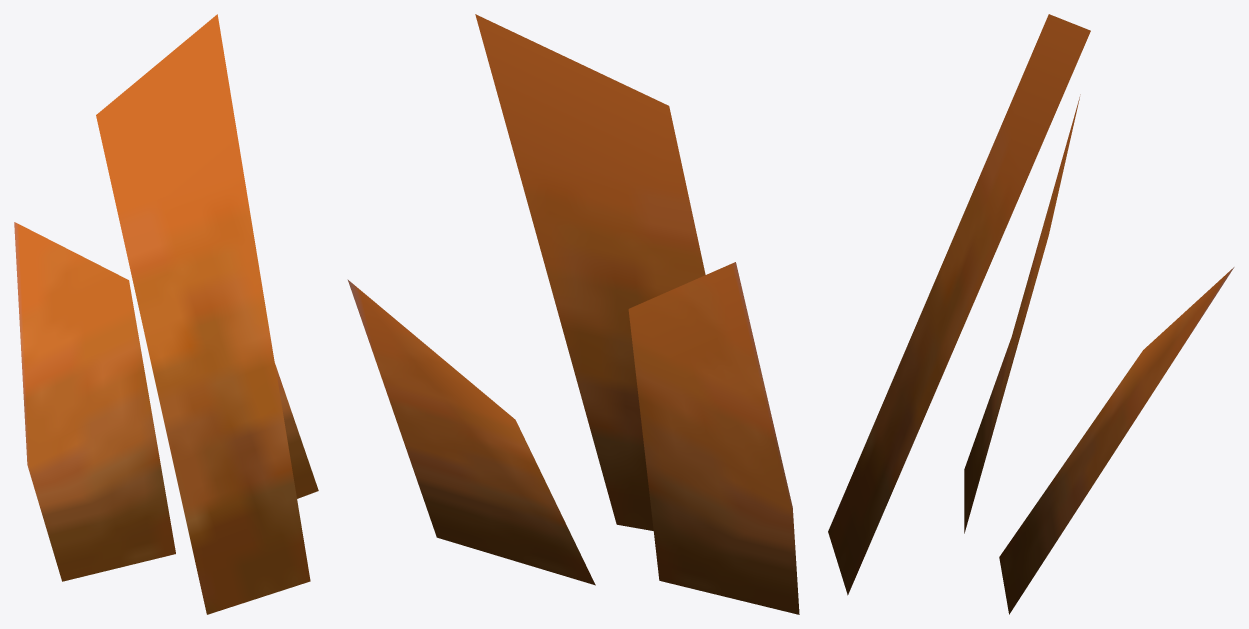
Rendered from fg_grassB.dae.
The picture shows the model from 3 angles, left to right: view 1: azimuth 30°, elevation 25°; view 2: azimuth 150°, elevation 25°; view 3: azimuth 270°, elevation 25°; orthographic projection. The views are drawn at different scales.
Parts seen in each view (by area): view 1: fg_grassB; view 2: fg_grassB; view 3: fg_grassB.
Part boxes in pixels (left/top/right/bottom): fg_grassB: left=14, top=14, right=318, bottom=614; fg_grassB: left=347, top=14, right=799, bottom=614; fg_grassB: left=828, top=14, right=1234, bottom=614.
Size of the model in its own units: 13.26 by 21.31 by 13.76.
Materials: 1 (1 with a texture image).
